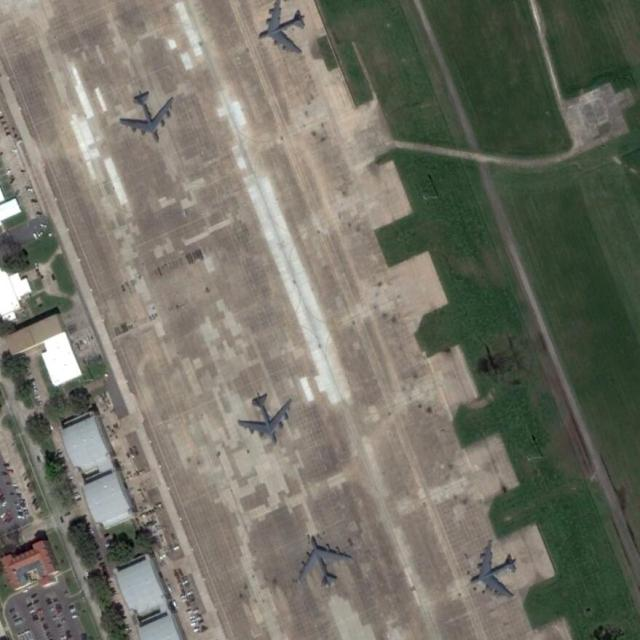fighter jet: (113, 84, 187, 150), (294, 530, 352, 594), (242, 389, 299, 451), (461, 542, 522, 598), (253, 0, 310, 56)
